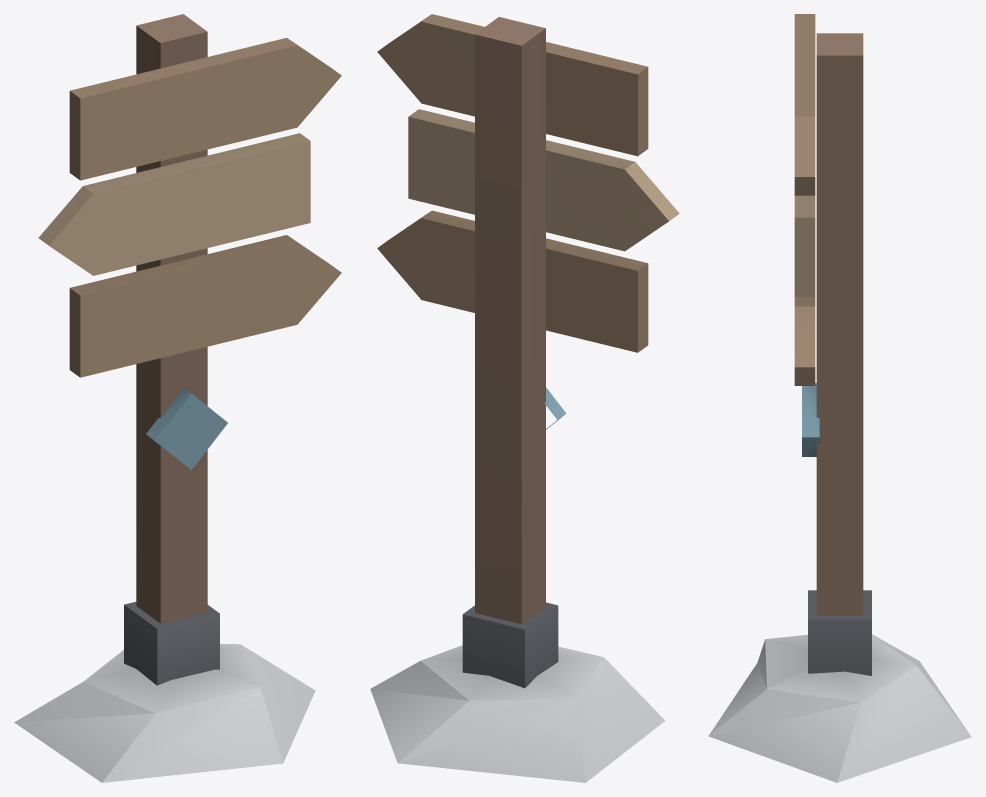
File: wayfinder.lod2.glb
3 views of the same model, side by side, from view 1: azimuth 30°, elevation 25°; view 2: azimuth 150°, elevation 25°; view 3: azimuth 270°, elevation 25° (orthographic). The views are drawn at different scales.
Bounding box in the file's own units: 1.12 × 2.54 × 0.903.
